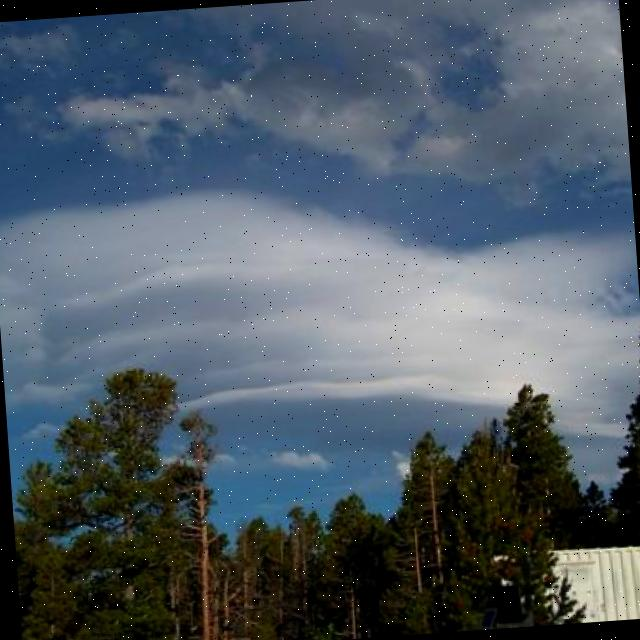Ac: (1, 1, 640, 358)
